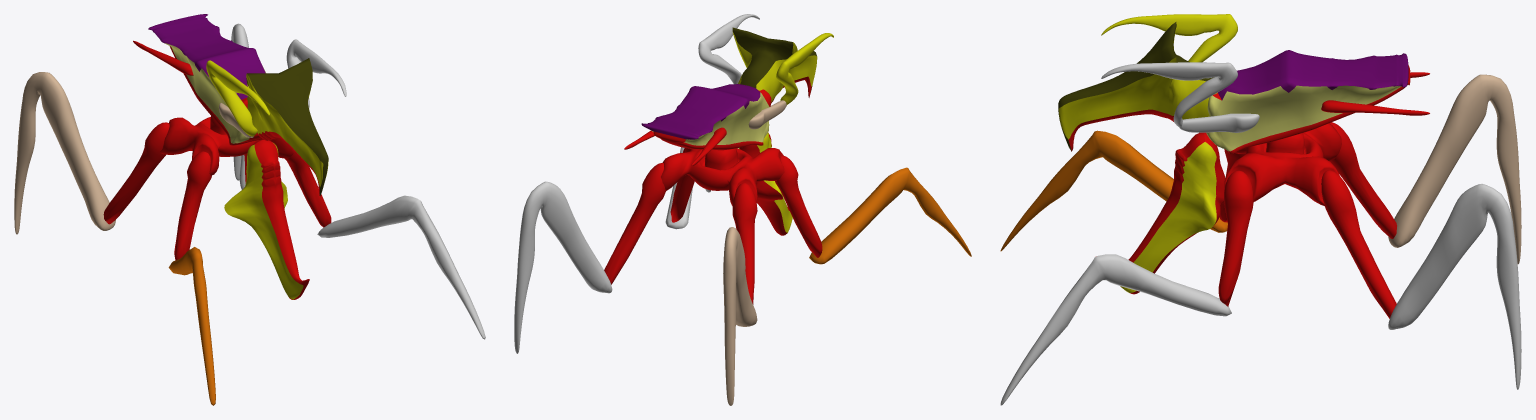
The model's file is arachnid.obj.
3 renders of one model, left to right at view 1: azimuth 30°, elevation 25°; view 2: azimuth 150°, elevation 25°; view 3: azimuth 270°, elevation 25°, orthographic. The views are drawn at different scales.
Parts seen in each view (by area): view 1: ARAK-AFT-L, ARAK-FOR_S, ARAK-BACK-, FRONTLEGLE, TOP-BEAK, SIDE-LOW-J, LEG-MOUNT, Inside-LOW, ARAK-FOR-L, SIDE-BEAK, ARAK-ROSTR, ARAK-BODY1 (+4 smaller); view 2: ARAK-FOR_S, BACK-LEGLE, LEG-MOUNT, ARAK-FOR-L, ARAK-BACK-, ARAK-AFT-L, TOP-BEAK, ARAK-BODY1, ROSTRAL-FR, SIDE-BEAK, BOTTOM-JAW, ARAK-ROSTR (+4 smaller); view 3: ARAK-FOR_S, ARAK-AFT-L, BACK-LEGLE, ARAK-BODY1, ARAK-BACK-, FRONTLEGLE, LEG-MOUNT, SIDE-LOW-J, ARAK-FOR-L, SIDE-BEAK, ROSTRAL-FR, ARAK-ROSTR (+7 smaller).
Boxes of the visible parts, bbox=[...] form: ARAK-AFT-L: bbox=[14, 72, 115, 234]; ARAK-FOR_S: bbox=[103, 122, 331, 260]; ARAK-BACK-: bbox=[148, 14, 265, 99]; FRONTLEGLE: bbox=[317, 195, 485, 339]; TOP-BEAK: bbox=[246, 58, 328, 196]; SIDE-LOW-J: bbox=[224, 143, 303, 299]; LEG-MOUNT: bbox=[160, 116, 295, 175]; Inside-LOW: bbox=[254, 140, 309, 285]; ARAK-FOR-L: bbox=[168, 247, 215, 405]; SIDE-BEAK: bbox=[246, 73, 328, 186]; ARAK-ROSTR: bbox=[206, 60, 269, 136]; ARAK-BODY1: bbox=[165, 43, 265, 143]; ARAK-FOR_S: bbox=[604, 148, 822, 304]; BACK-LEGLE: bbox=[514, 181, 612, 353]; LEG-MOUNT: bbox=[661, 148, 784, 205]; ARAK-FOR-L: bbox=[809, 167, 971, 264]; ARAK-BACK-: bbox=[641, 84, 760, 139]; ARAK-AFT-L: bbox=[723, 227, 757, 405]; TOP-BEAK: bbox=[732, 27, 816, 92]; ARAK-BODY1: bbox=[651, 92, 769, 145]; ROSTRAL-FR: bbox=[698, 14, 759, 84]; SIDE-BEAK: bbox=[733, 32, 817, 102]; BOTTOM-JAW: bbox=[739, 144, 787, 235]; ARAK-ROSTR: bbox=[776, 33, 833, 104]; ARAK-FOR_S: bbox=[1218, 122, 1396, 318]; ARAK-AFT-L: bbox=[1388, 74, 1521, 264]; BACK-LEGLE: bbox=[1388, 184, 1521, 389]; ARAK-BODY1: bbox=[1206, 85, 1401, 151]; ARAK-BACK-: bbox=[1218, 50, 1408, 100]; FRONTLEGLE: bbox=[1000, 254, 1231, 405]; LEG-MOUNT: bbox=[1224, 123, 1341, 205]; SIDE-LOW-J: bbox=[1120, 142, 1216, 292]; ARAK-FOR-L: bbox=[1000, 130, 1227, 251]; SIDE-BEAK: bbox=[1058, 28, 1217, 139]; ROSTRAL-FR: bbox=[1101, 62, 1237, 127]; ARAK-ROSTR: bbox=[1101, 14, 1237, 62].
Size of the model in its own units: 2.71 by 2.37 by 3.84.
